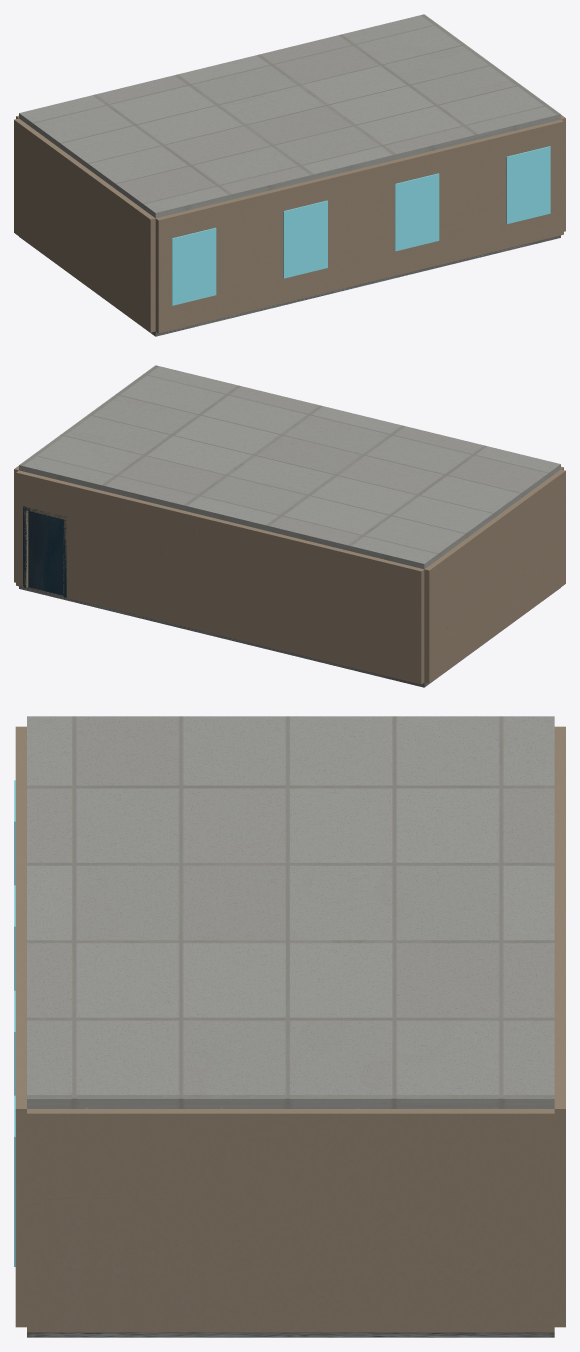
Rendered from AulaTerminada(2).fbx.
3 renders of one model, top to bottom at view 1: azimuth 30°, elevation 25°; view 2: azimuth 150°, elevation 25°; view 3: azimuth 270°, elevation 25°, orthographic. The views are drawn at different scales.
Visible parts, largest first — view 1: Techo, Paredes, Ventanas, Piso; view 2: Paredes, Techo, Puerta, Piso; view 3: Techo, Paredes, Piso, Ventanas.
Boxes of the visible parts, bbox=[...] form: Techo: bbox=[19, 14, 560, 218]; Paredes: bbox=[14, 115, 565, 333]; Ventanas: bbox=[172, 146, 550, 305]; Piso: bbox=[19, 235, 560, 336]; Paredes: bbox=[14, 466, 565, 684]; Techo: bbox=[19, 365, 560, 569]; Puerta: bbox=[23, 506, 66, 597]; Piso: bbox=[19, 586, 560, 687]; Techo: bbox=[27, 716, 554, 1108]; Paredes: bbox=[15, 726, 565, 1332]; Piso: bbox=[27, 1332, 554, 1337]; Ventanas: bbox=[14, 780, 15, 1266].
Size of the model in its own units: 1230 by 350 by 732.
